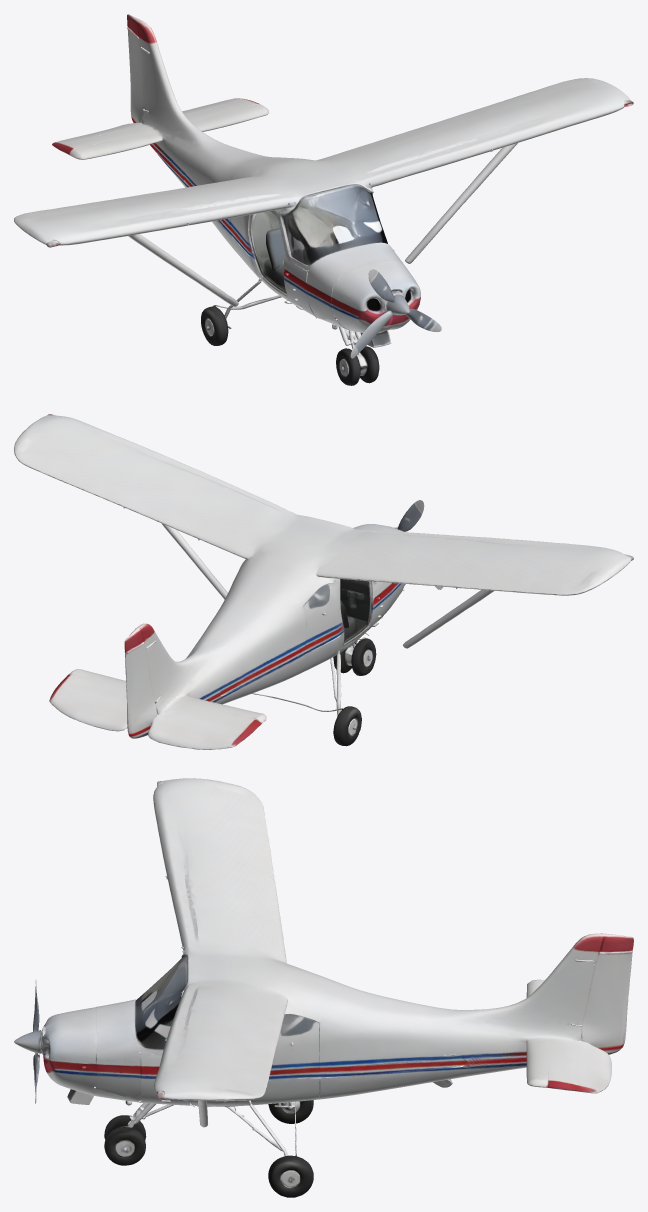
3 views of the same model, one above another, from view 1: azimuth 30°, elevation 25°; view 2: azimuth 150°, elevation 25°; view 3: azimuth 270°, elevation 25° (orthographic). The views are drawn at different scales.
Parts seen in each view (by area): view 1: model; view 2: model; view 3: model.
Part boxes in pixels (bbox=[...]): model: bbox=[14, 14, 633, 385]; model: bbox=[14, 414, 633, 749]; model: bbox=[14, 778, 633, 1197].
Bounding box in the file's own units: 1.9 × 0.6283 × 1.56.
Materials: 1 (1 with a texture image).
